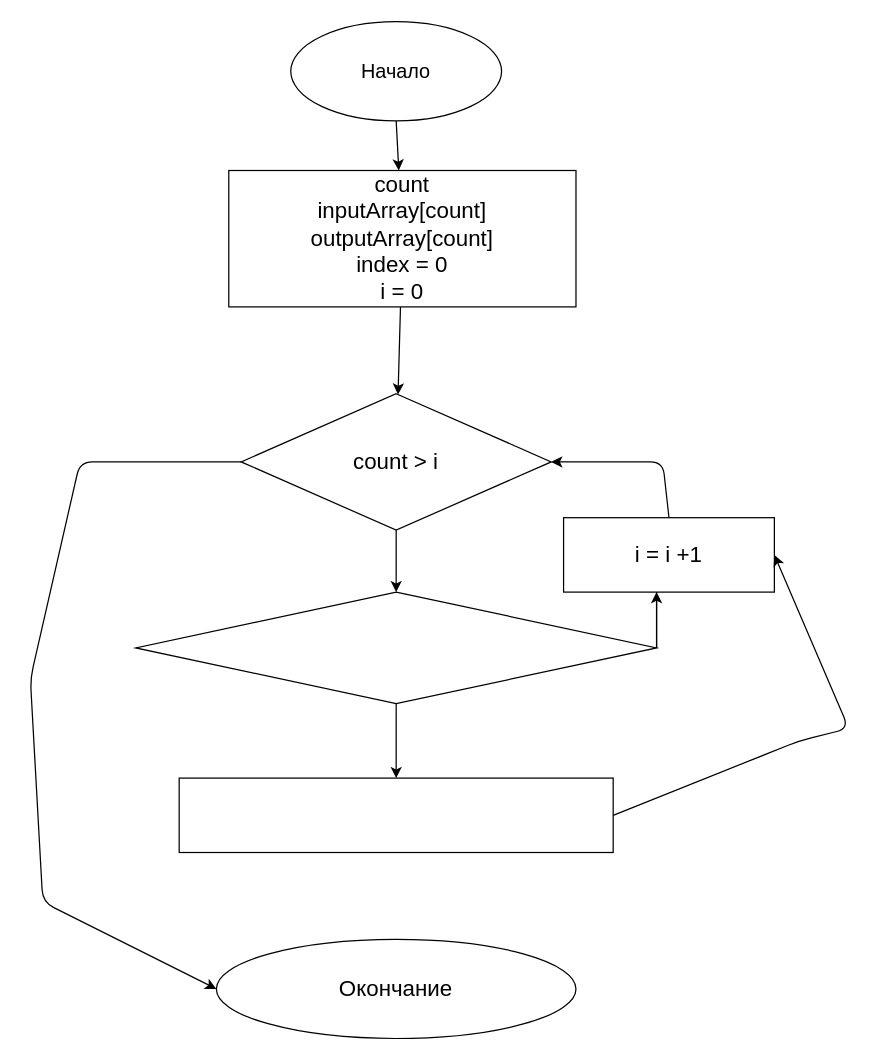
Some shapes in this 880 by 1060 pixel diagram are drawn without their labels. Each missing label, with the box of its shape:
inputArray[i].Length < 4: (135, 591, 657, 704)
outputArray[index] = inputArray[i] index = index + 1: (178, 777, 613, 852)
